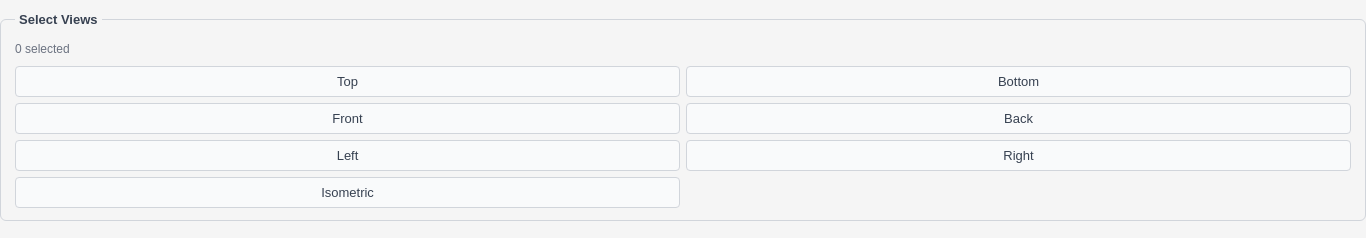
it: ViewSelector › restores prior selection state after a full activate/deactivate cycle
Activate two views
Click the checkbox labelled "Front": point(348, 118) [15,103,680,134]
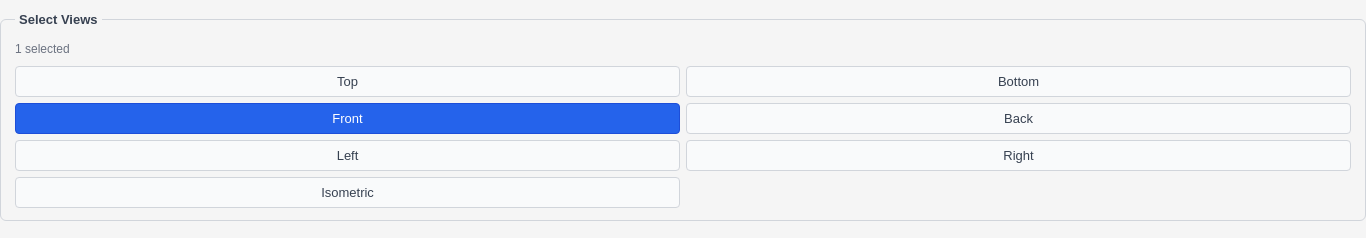
Click the checkbox labelled "Right": point(1018, 156) [686,140,1351,171]
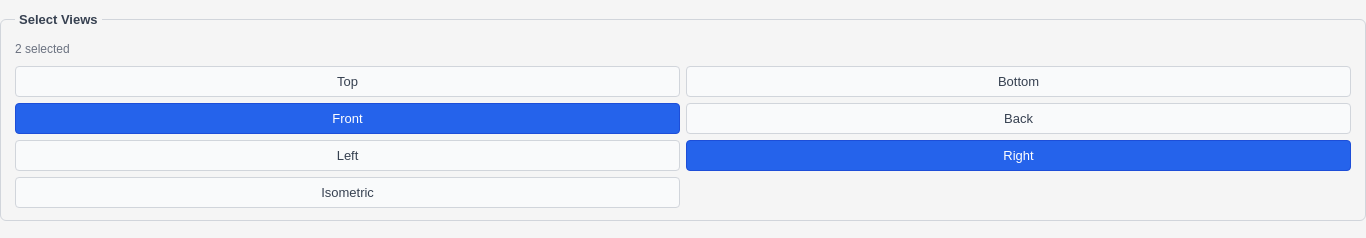
Expected: the text "2 selected" is shown, [15,42,70,56]
Toggle Right off and back on
Click the checkbox labelled "Right": point(1018, 156) [686,140,1351,171]
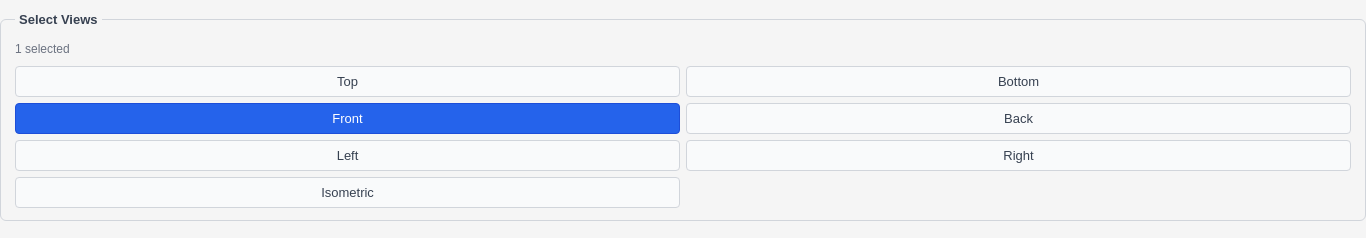
Expected: the text "1 selected" is shown, [15,42,70,56]
Click the checkbox labelled "Right": point(1018, 156) [686,140,1351,171]
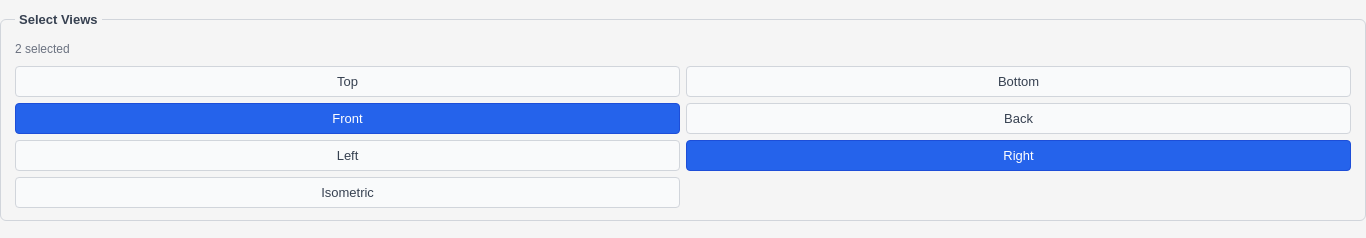
Expected: the text "2 selected" is shown, [15,42,70,56]
